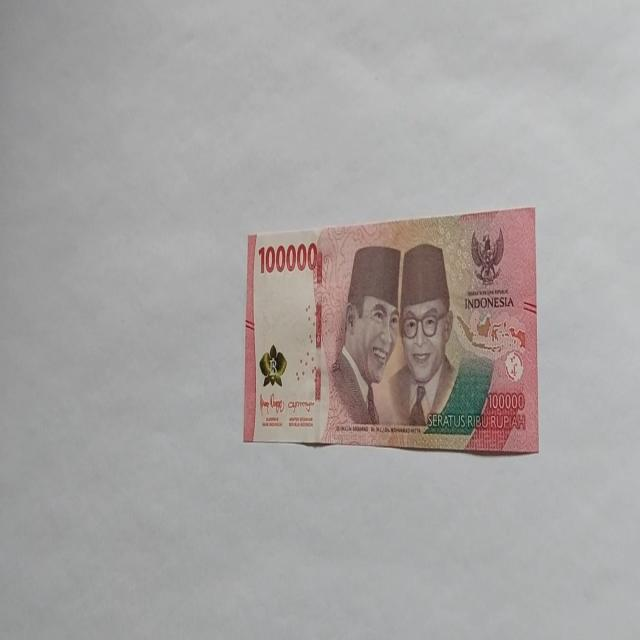seratus ribu rupiah: (243, 206, 539, 454)
